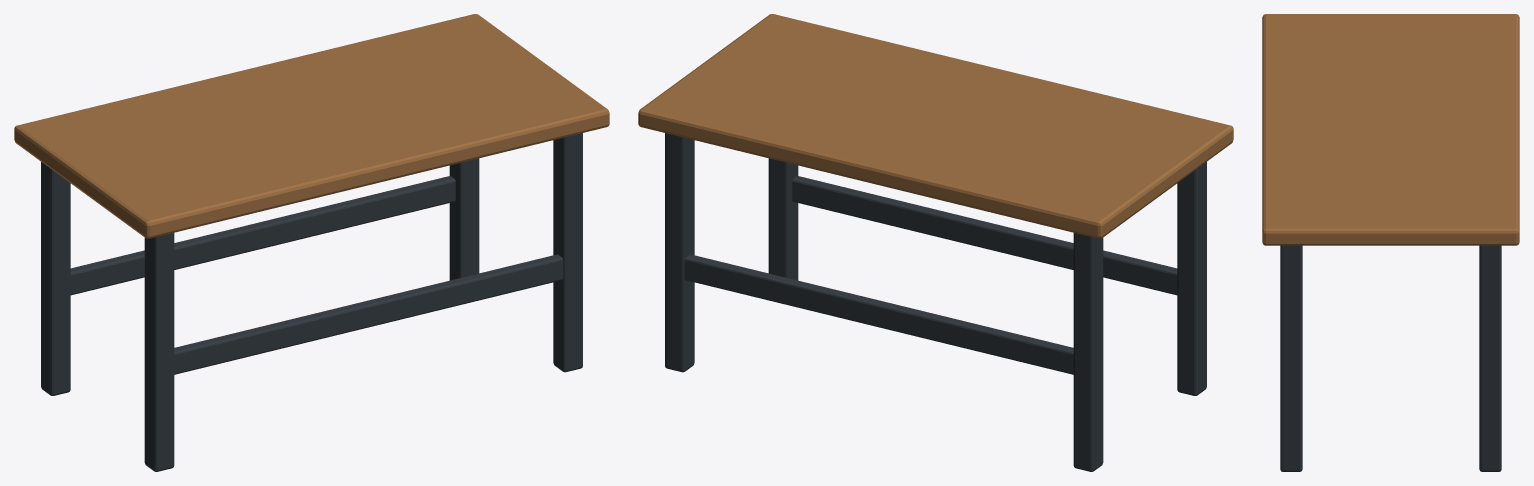
The model's file is Experiment_Table.fbx.
3 views of the same model, side by side, from view 1: azimuth 30°, elevation 25°; view 2: azimuth 150°, elevation 25°; view 3: azimuth 270°, elevation 25° (orthographic). The views are drawn at different scales.
Parts seen in each view (by area): view 1: TableTop, FrontBrace, RearBrace, Leg_L_F, Leg_R_F, Leg_L_B, Leg_R_B; view 2: TableTop, RearBrace, FrontBrace, Leg_L_B, Leg_R_B, Leg_L_F, Leg_R_F; view 3: TableTop, Leg_R_B, Leg_R_F.
Boxes of the visible parts, left/top/right/bottom form: TableTop: left=14, top=14, right=609, bottom=238; FrontBrace: left=174, top=254, right=563, bottom=374; RearBrace: left=70, top=176, right=455, bottom=295; Leg_L_F: left=144, top=233, right=174, bottom=471; Leg_R_F: left=553, top=133, right=582, bottom=372; Leg_L_B: left=41, top=162, right=70, bottom=395; Leg_R_B: left=449, top=158, right=479, bottom=280; TableTop: left=638, top=14, right=1233, bottom=238; RearBrace: left=684, top=254, right=1073, bottom=374; FrontBrace: left=792, top=176, right=1177, bottom=295; Leg_L_B: left=1073, top=233, right=1103, bottom=471; Leg_R_B: left=665, top=133, right=694, bottom=372; Leg_L_F: left=1177, top=162, right=1206, bottom=395; Leg_R_F: left=768, top=158, right=798, bottom=280; TableTop: left=1262, top=14, right=1519, bottom=245; Leg_R_B: left=1479, top=245, right=1501, bottom=471; Leg_R_F: left=1280, top=245, right=1302, bottom=471.
Bounding box in the file's own units: 1.5 × 0.8075 × 0.75.
